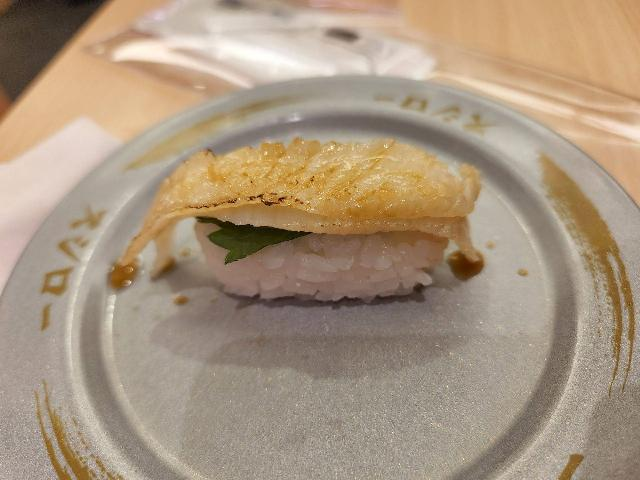janwhite: (90, 77, 605, 480)
